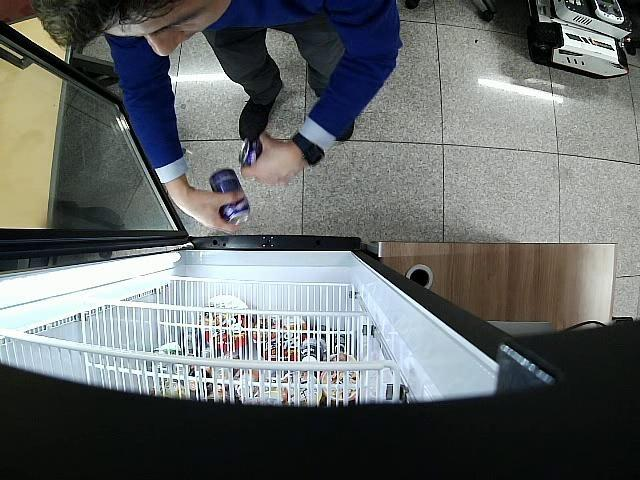14_welchsGrape: (208, 168, 248, 226), (238, 136, 262, 166)
